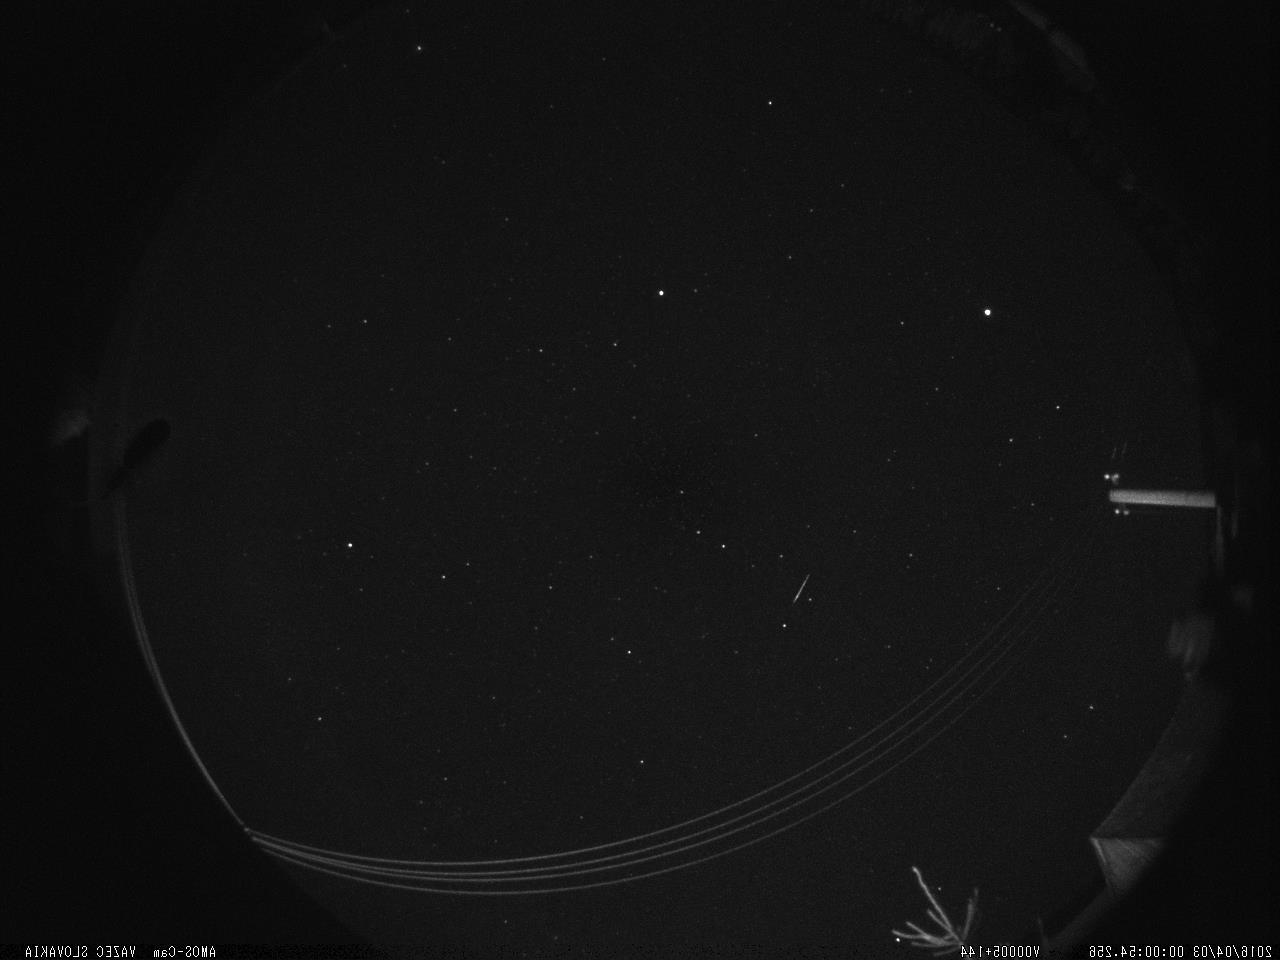meteor: (775, 570, 816, 611)
